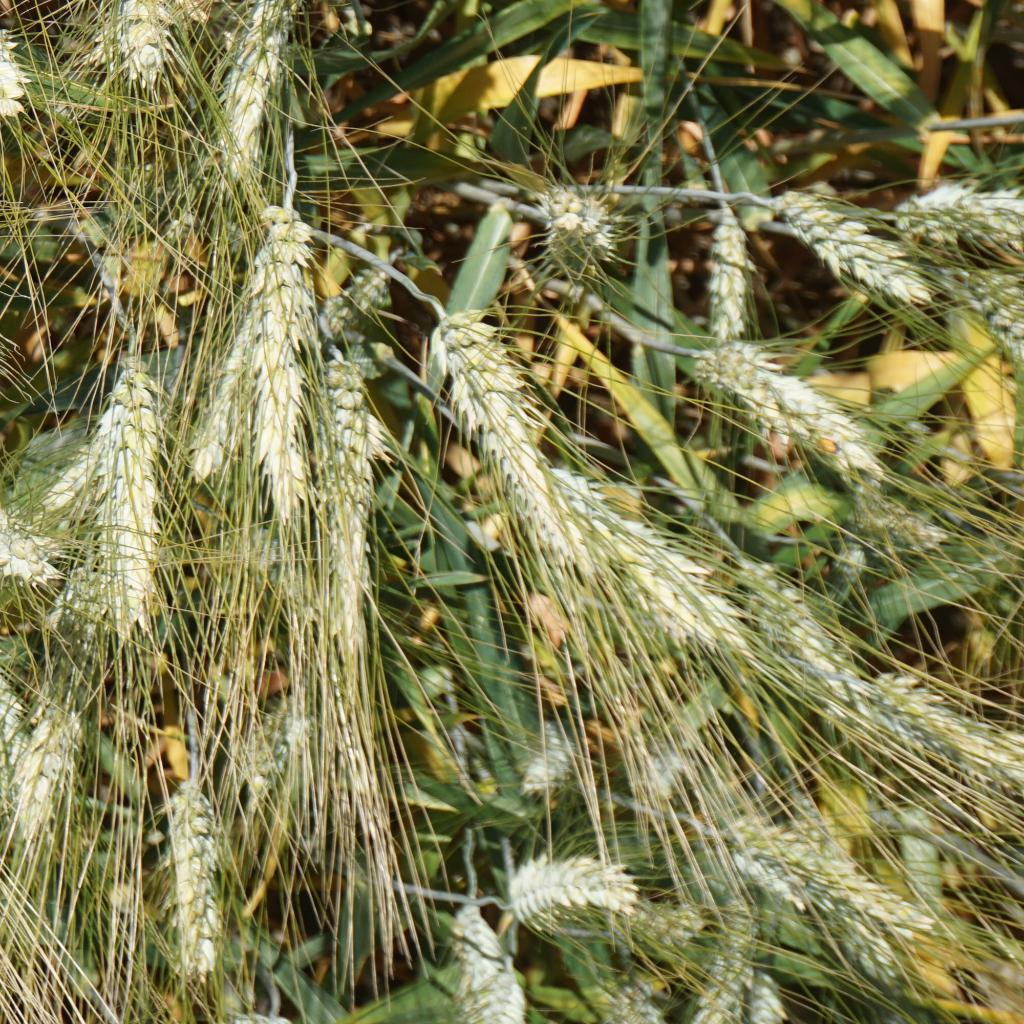0-0: (427, 308, 567, 564), (536, 465, 717, 653), (699, 343, 869, 483), (90, 355, 167, 630), (252, 202, 316, 510), (724, 819, 926, 914), (775, 184, 928, 308), (301, 350, 371, 613), (214, 0, 311, 183), (733, 560, 857, 696), (886, 658, 1020, 780), (158, 770, 236, 978), (9, 695, 99, 844), (231, 687, 325, 808), (506, 843, 630, 933), (181, 318, 251, 477), (786, 884, 900, 979), (898, 160, 1024, 245), (82, 0, 184, 94), (688, 891, 758, 1024), (701, 194, 759, 352), (536, 181, 623, 284), (225, 516, 308, 621), (843, 479, 947, 555), (39, 572, 114, 655), (31, 436, 93, 530), (328, 264, 399, 343), (609, 886, 695, 950), (965, 258, 1024, 349), (628, 742, 688, 822), (515, 732, 580, 801), (0, 509, 56, 586), (0, 10, 37, 124), (0, 596, 26, 744), (467, 965, 520, 1024), (458, 919, 506, 982), (601, 975, 657, 1024), (741, 973, 791, 1024), (158, 0, 221, 25)
